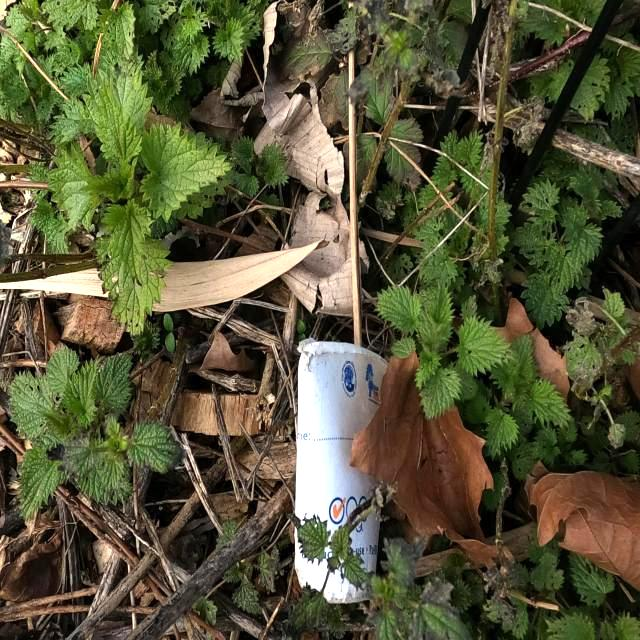Coffee Cup: (290, 334, 394, 610)
